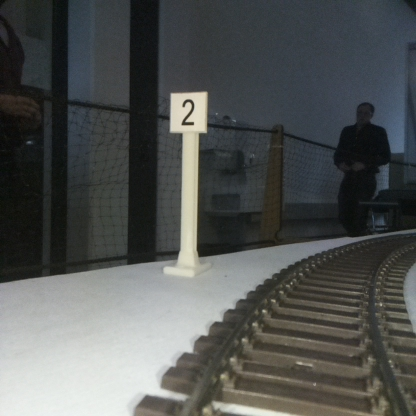white-info-2: (169, 91, 206, 272)
